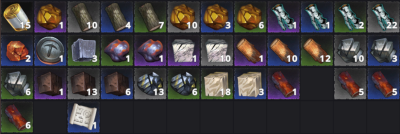ash log: (67, 1, 100, 33), (134, 1, 167, 33), (101, 1, 133, 33)
aurelium ore: (201, 1, 233, 33), (167, 1, 200, 32), (34, 1, 66, 32), (234, 2, 266, 33)
birch log: (267, 2, 300, 33), (367, 1, 399, 32), (301, 2, 332, 33), (333, 2, 365, 32)
copper ore: (1, 34, 33, 65)
granite stone: (67, 33, 99, 66)
iron ore: (101, 34, 133, 66), (134, 34, 166, 66)
marble stone: (167, 33, 200, 67), (200, 34, 233, 65)
oak log: (300, 33, 333, 66), (234, 34, 266, 66), (267, 34, 299, 66)
silver ore: (367, 34, 400, 67), (334, 33, 366, 66), (1, 67, 33, 99)
slate stone: (100, 67, 134, 99), (67, 67, 100, 99), (34, 67, 66, 99)
tin ore: (168, 67, 200, 99), (134, 68, 166, 99)
travertine stone: (234, 67, 266, 99), (201, 67, 232, 100)
yew log: (334, 67, 367, 100), (268, 67, 300, 100), (1, 100, 33, 133), (368, 67, 400, 99)
